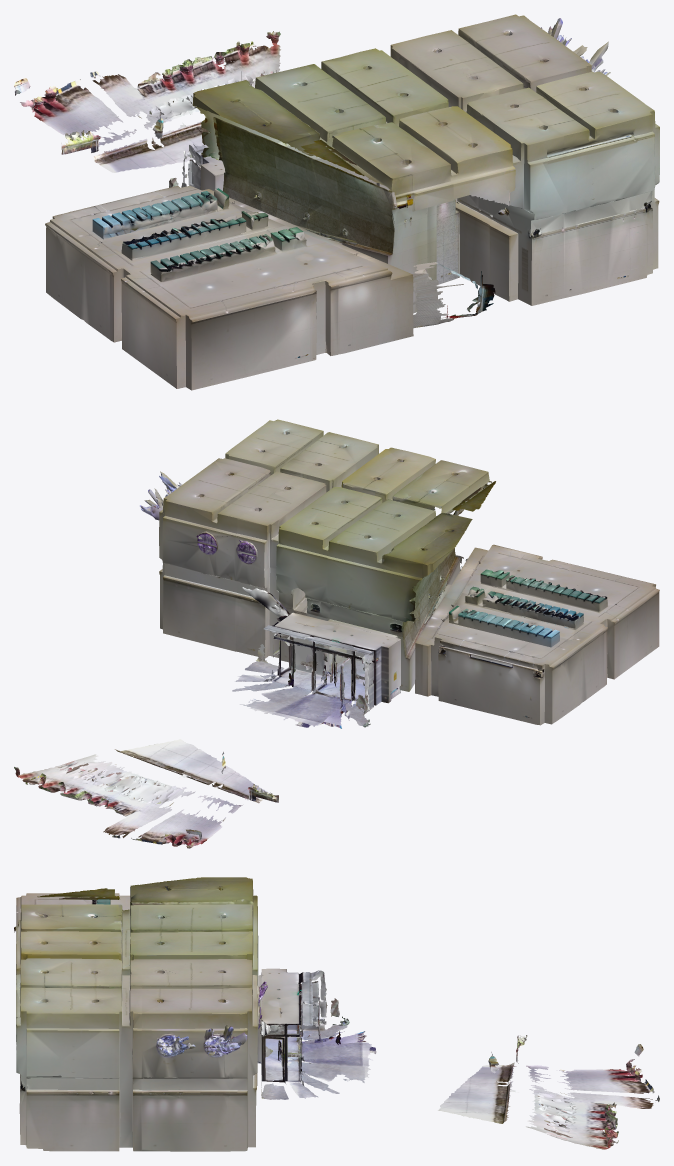
File: sitecam.glb
The picture shows the model from 3 angles, top to bottom: view 1: azimuth 30°, elevation 25°; view 2: azimuth 150°, elevation 25°; view 3: azimuth 270°, elevation 25°; orthographic projection. The views are drawn at different scales.
Parts seen in each view (by area): view 1: Object_5, Object_7, Object_4, Object_6, Object_2, Object_3; view 2: Object_4, Object_7, Object_6, Object_5, Object_2, Object_3; view 3: Object_5, Object_4, Object_7, Object_6, Object_2, Object_3.
Boxes of the visible parts, x1,y1,x2,y2 form: Object_5: (301,24,659,339); Object_7: (56,87,403,390); Object_4: (34,14,652,327); Object_6: (14,76,354,317); Object_2: (92,65,241,116); Object_3: (258,19,618,244); Object_4: (14,431,463,846); Object_7: (383,470,659,717); Object_6: (186,530,655,848); Object_5: (144,419,484,669); Object_2: (60,779,171,837); Object_3: (183,431,463,647); Object_5: (14,907,230,1151); Object_4: (16,907,659,1151); Object_7: (14,877,229,929); Object_6: (59,877,643,1073); Object_2: (566,1092,653,1134); Object_3: (21,906,310,1035).
Size of the model in its own units: 23.89 by 8.65 by 30.22.
6 materials, 5 textured.
